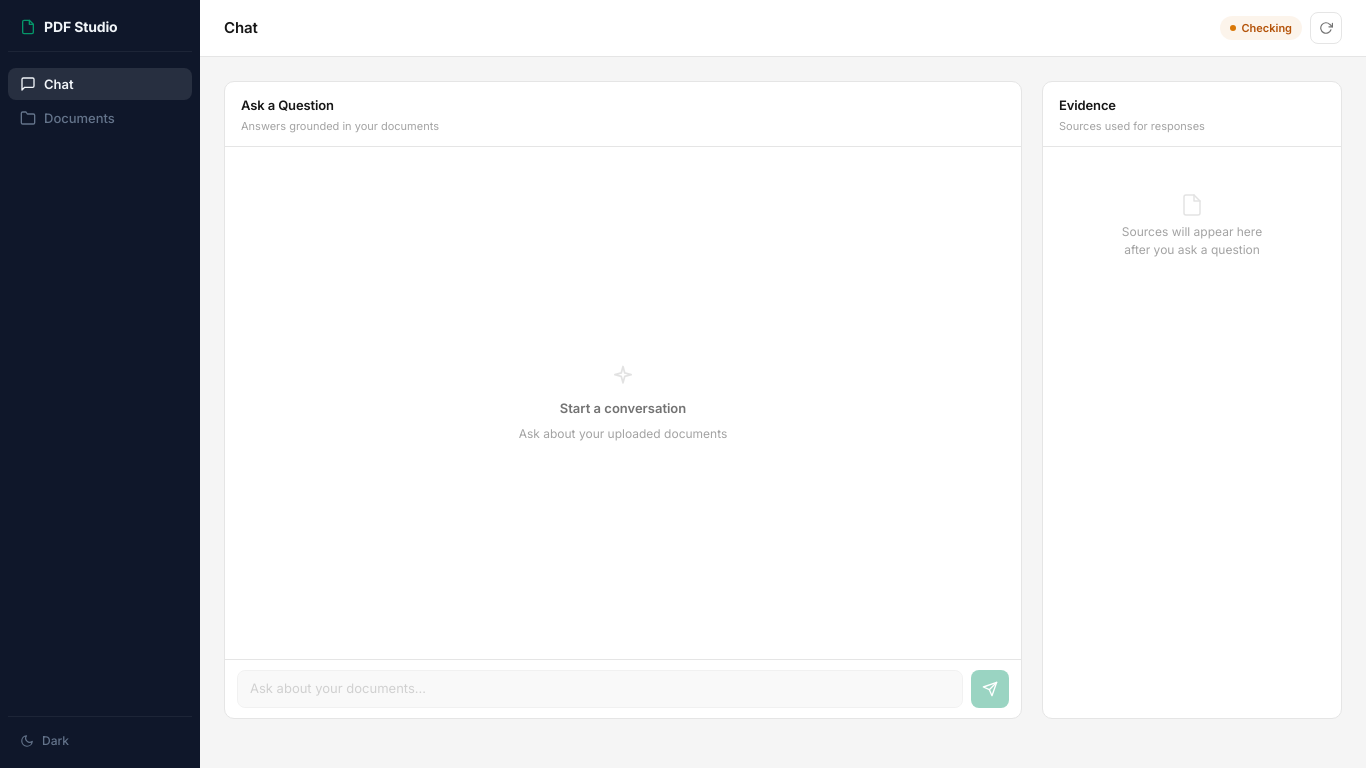
Test: App › renders empty doc state
Click the button "Documents" at x=100, y=118, box [8,102,192,134]
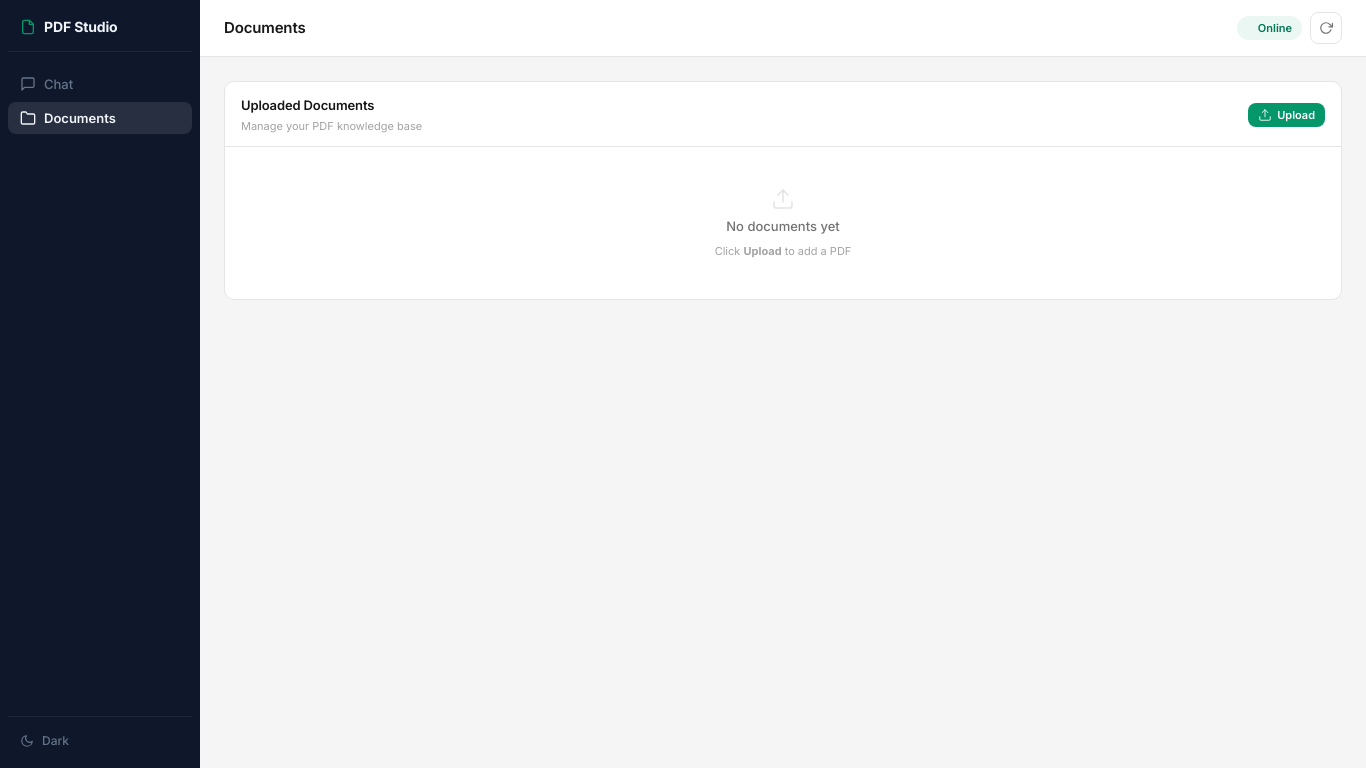
expect the text "No documents yet" is shown: met, box [726,217,840,236]
